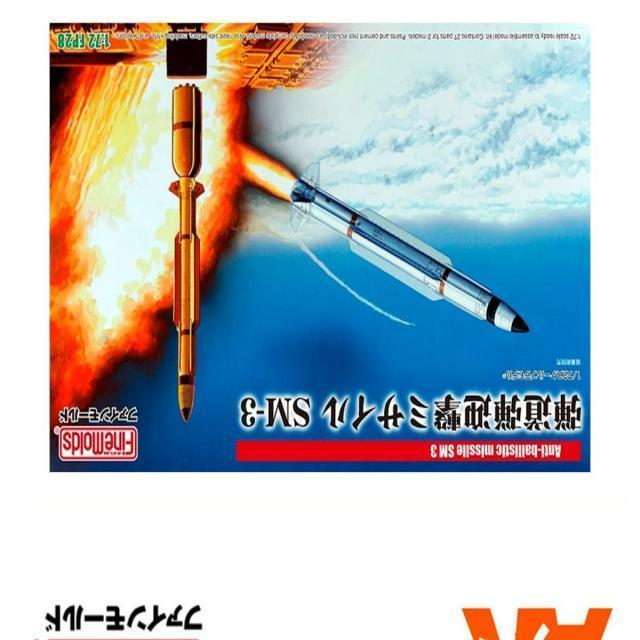missile: (286, 157, 533, 343), (164, 69, 206, 434)
